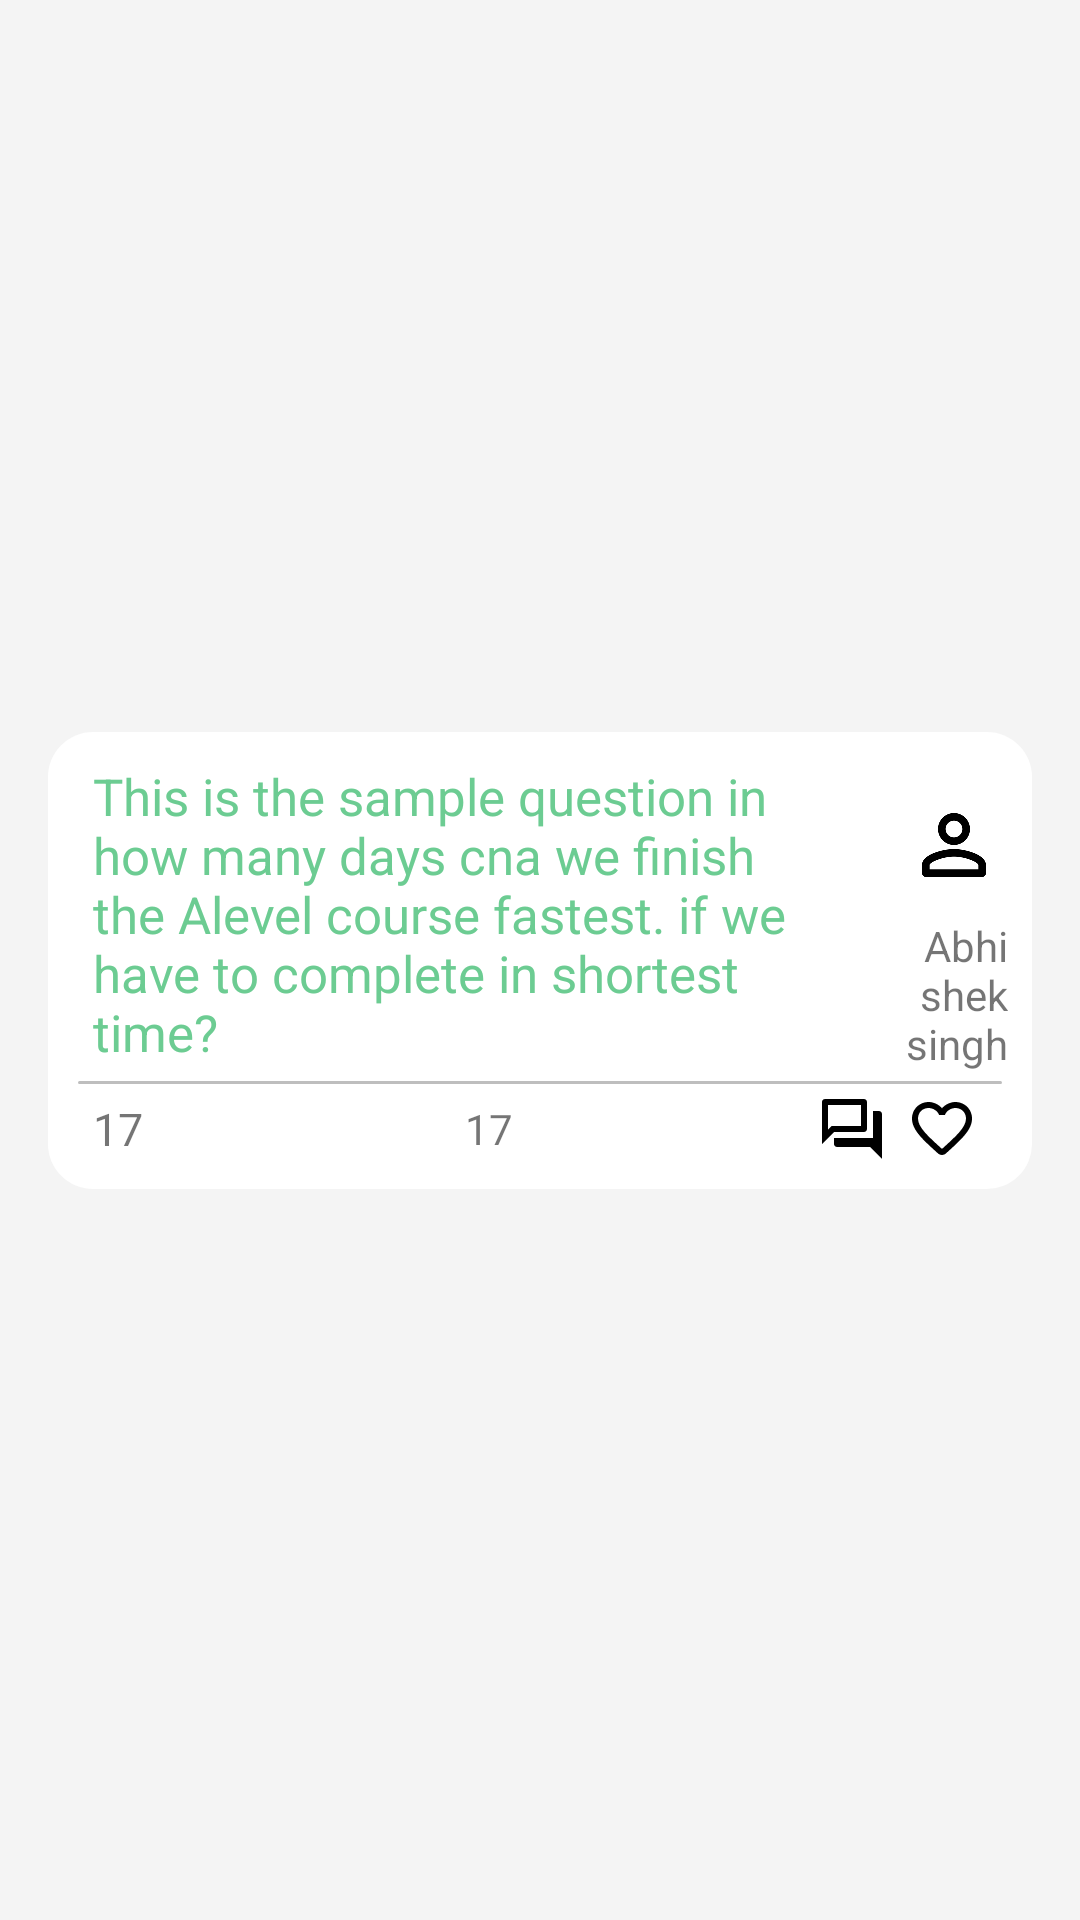

Point at icon controls on the screen. Image size 1080w x 1920h, points as (x=x, y=y).
favorite border: (x=942, y=1128)
person: (x=954, y=845)
question answer: (x=852, y=1129)
